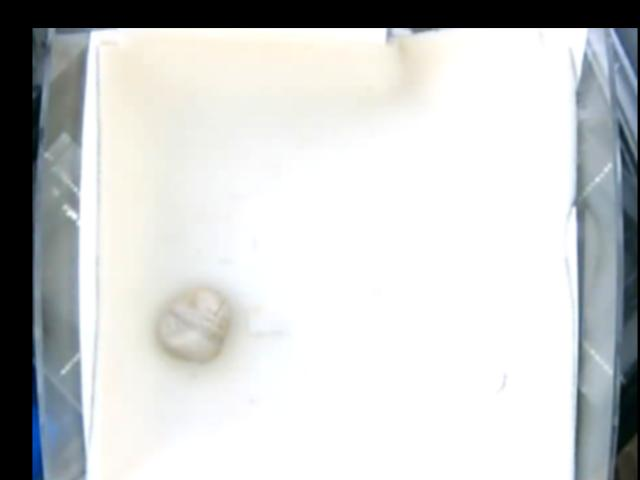Pebble: (155, 286, 231, 362)
